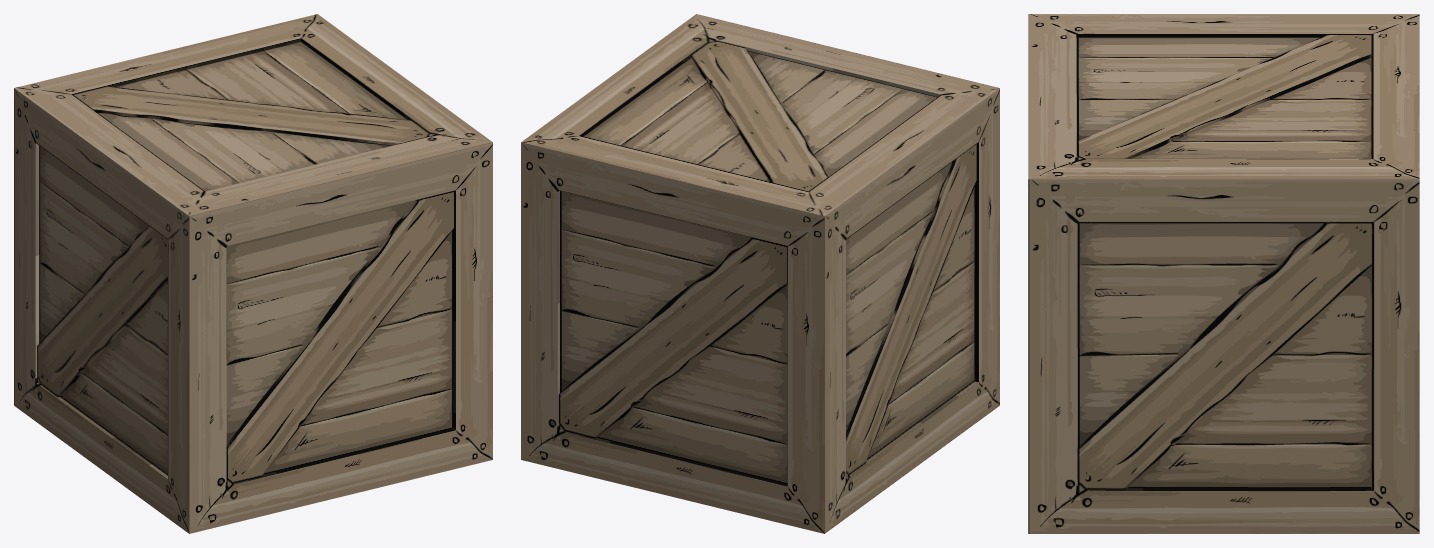
The picture shows the model from 3 angles, left to right: view 1: azimuth 30°, elevation 25°; view 2: azimuth 150°, elevation 25°; view 3: azimuth 270°, elevation 25°; orthographic projection. The views are drawn at different scales.
Parts seen in each view (by area): view 1: Cube.001; view 2: Cube.001; view 3: Cube.001.
Part boxes in pixels (left/top/right/bottom): Cube.001: left=14, top=14, right=492, bottom=533; Cube.001: left=521, top=14, right=999, bottom=533; Cube.001: left=1028, top=14, right=1419, bottom=533.
Bounding box in the file's own units: 194 × 194 × 194.
1 material, 1 textured.
